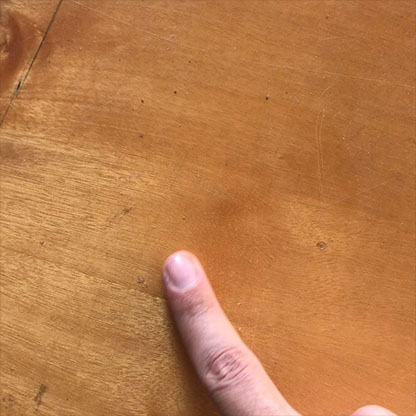fingertip: (151, 248, 213, 300)
